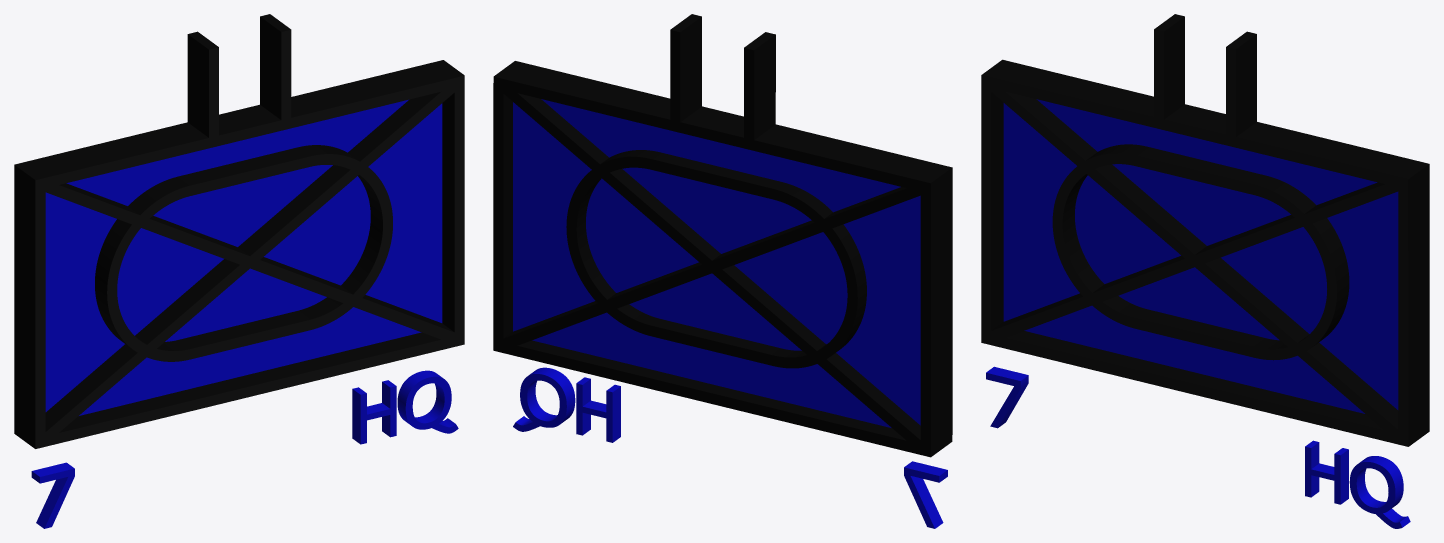
File: ORBAT_-_HQ.obj
3 renders of one model, left to right at view 1: azimuth 30°, elevation 25°; view 2: azimuth 150°, elevation 25°; view 3: azimuth 330°, elevation 25°, orthographic. The views are drawn at different scales.
Visible parts, largest first — view 1: SM_ORBAT_-_HQ_path1763-2.114; view 2: SM_ORBAT_-_HQ_path1763-2.114; view 3: SM_ORBAT_-_HQ_path1763-2.114.
Boxes of the visible parts, x1,y1,x2,y2 form: SM_ORBAT_-_HQ_path1763-2.114: [14, 14, 464, 528]; SM_ORBAT_-_HQ_path1763-2.114: [493, 14, 952, 528]; SM_ORBAT_-_HQ_path1763-2.114: [981, 14, 1429, 528].
Bounding box in the file's own units: 0.1975 × 0.1946 × 0.017.
